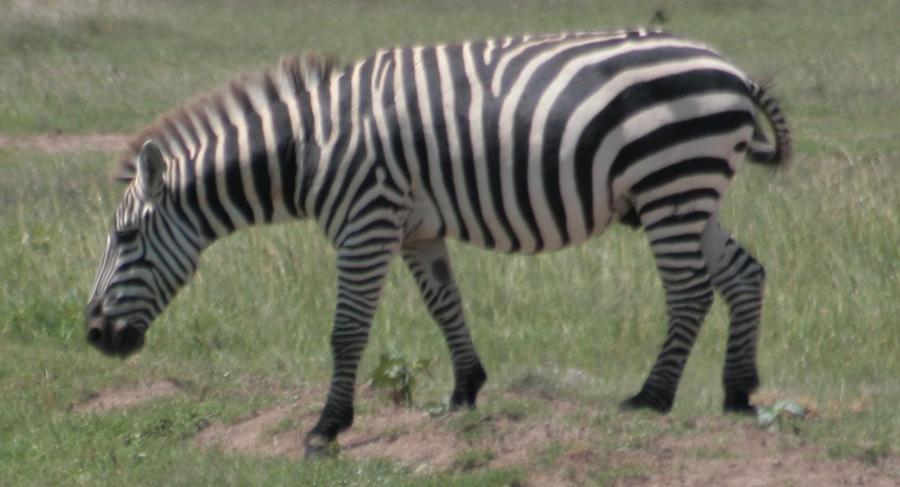zebra_plains: (267, 10, 776, 299)
